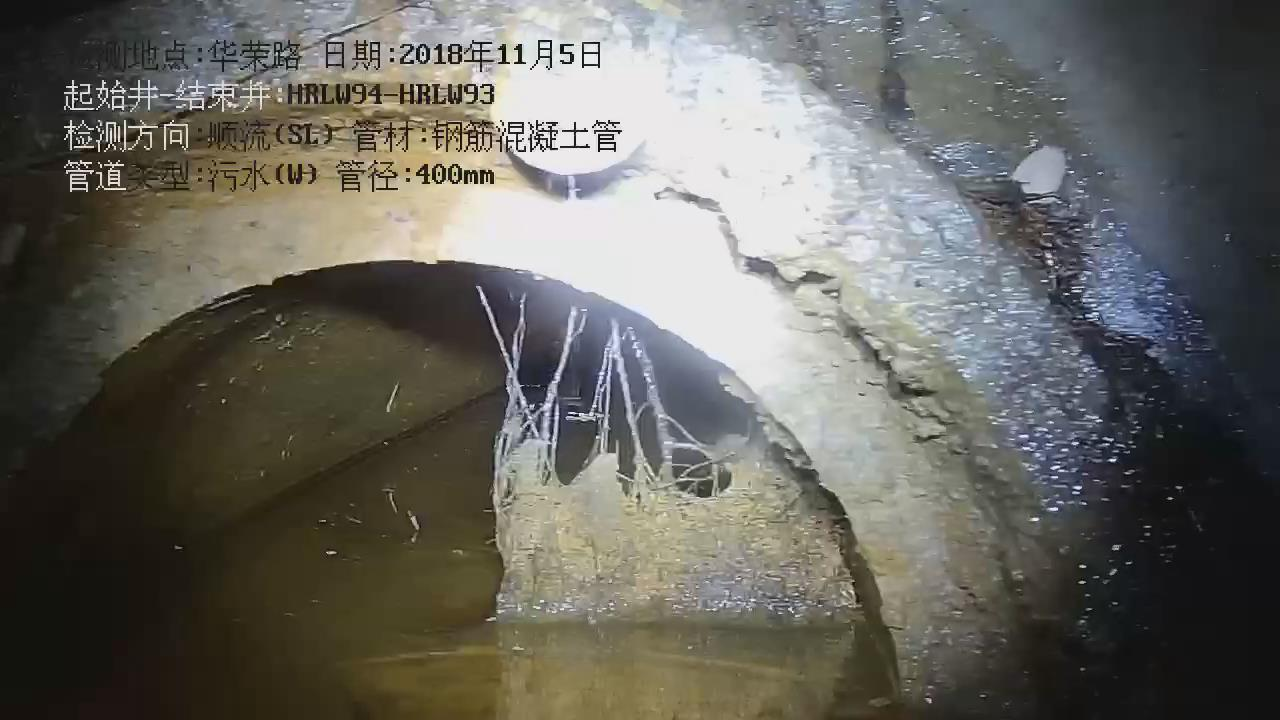SG: (476, 284, 857, 618)
